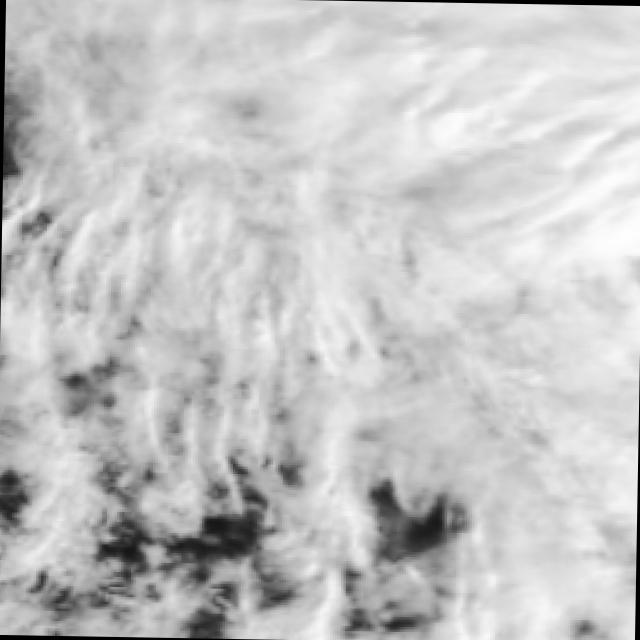CB: (401, 1, 640, 226), (449, 377, 639, 640), (186, 0, 409, 210), (197, 198, 410, 402), (0, 205, 204, 406), (2, 0, 196, 206), (419, 219, 640, 380)
